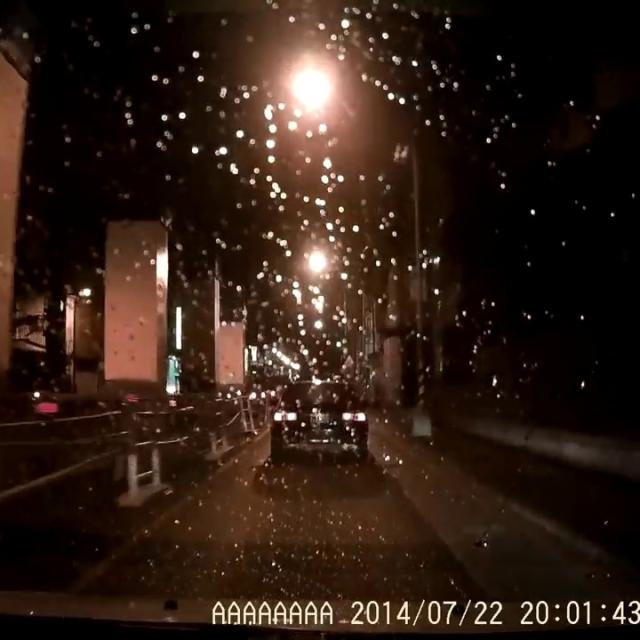Car: (267, 376, 368, 461)
